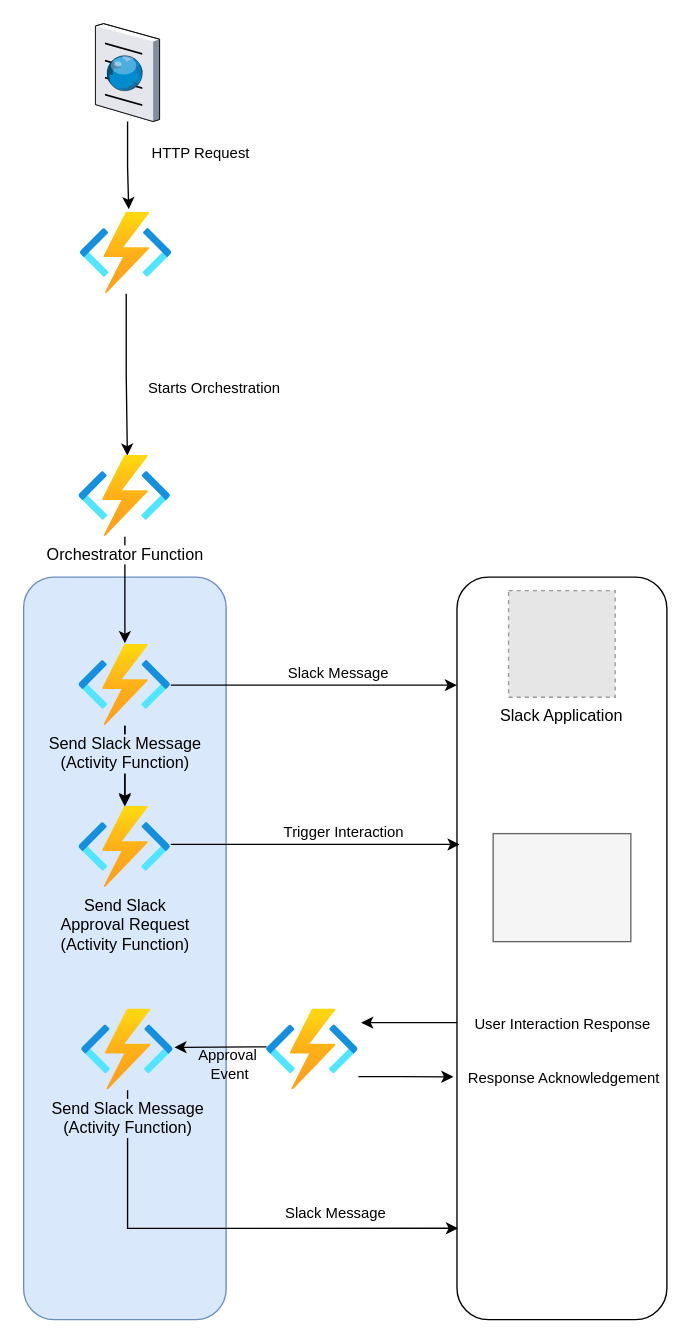
This 691x1343 diagram has some shape labels left out. Grey dashed boxes stand in for pictures. Each missing label, with the box of its shape:
Slack Approval Response Handler (HTTP Trigger): (266, 1008, 358, 1089)
Slack User Presses Approve or Deny button: (492, 832, 631, 942)
Trigger Orchestration (HTTP Trigger): (80, 212, 171, 293)
